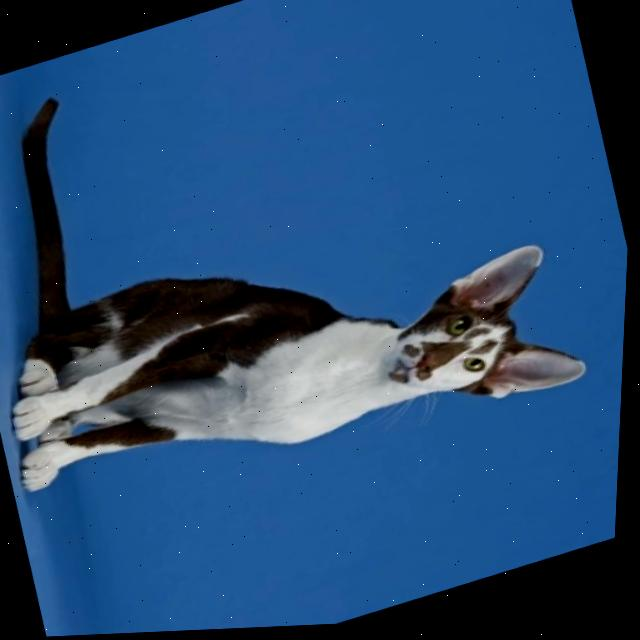Oriental: (0, 0, 610, 552)
